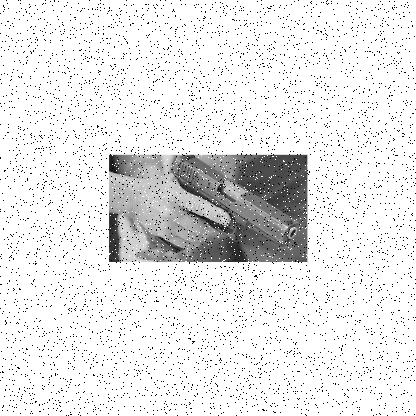gun: (149, 155, 299, 253)
